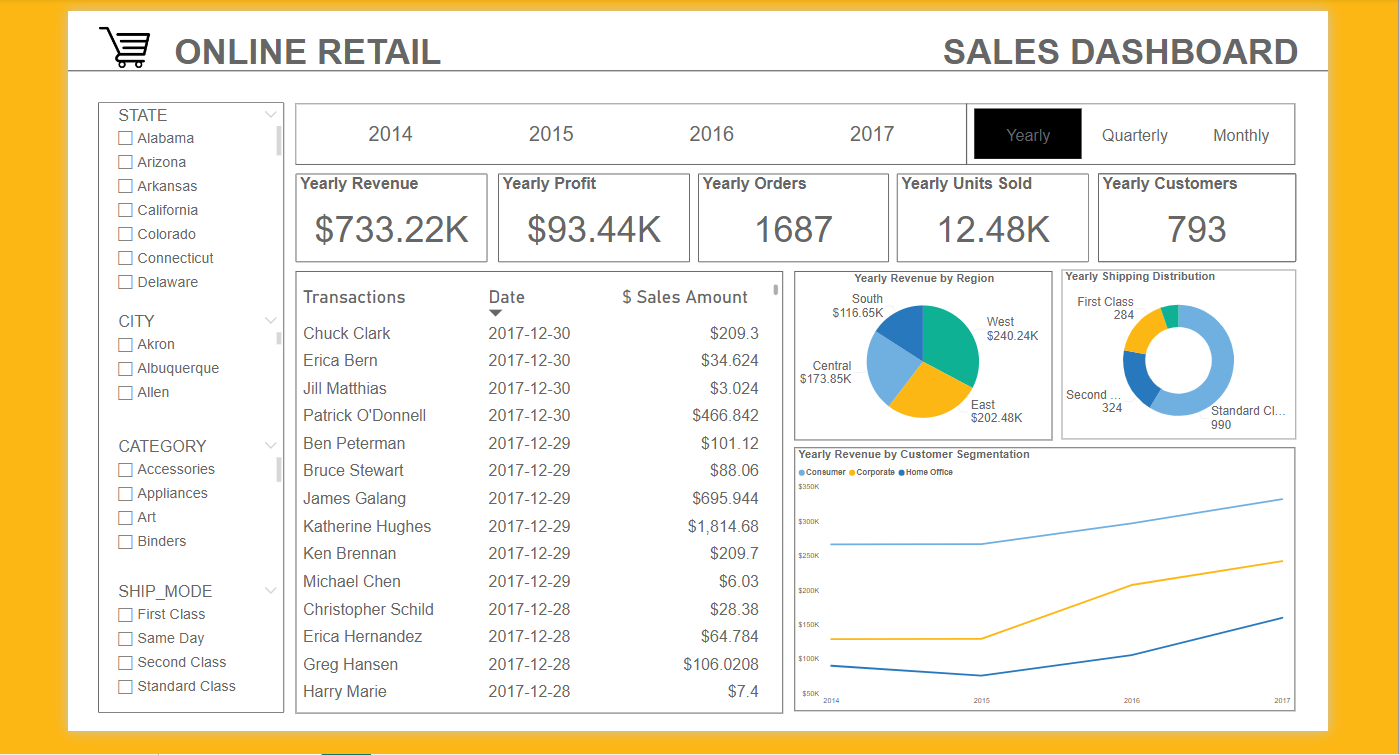

This screenshot's page, from the dashboard's own definition file:
{"tool":"powerbi","page":{"name":"Sales Dashboard","canvas":[2100,1200],"ordinal":0},"visuals":[{"type":"textbox","title":"Sales Dashboard","box":[1432.5,30,642.5,92.5],"z":0},{"type":"textbox","title":"Online Retail","box":[136.4,29.2,528.7,92.6],"z":125},{"type":"image","title":"Online Retail Logo","box":[17.1,0,163.2,121.8],"z":250},{"type":"shape","title":"Title Line","box":[0,77.5,2100,45],"z":500},{"type":"shape","title":"Title Frame","box":[0,0,2100,152.5],"z":750},{"type":"tableEx","title":"Transactions","fields":{"Values":["Dim_Customer.Customer_name","Dim_Calendar.Date","Calculation group.Total Sales"]},"box":[380,432.5,812.5,737.5],"z":875},{"type":"shape","title":"Filter Frame","box":[50,152.5,310,1017.5],"z":7250},{"type":"slicer","title":"ShipMode Slicer","fields":{"Values":["Dim_Shipping.SHIP_MODE"]},"box":[70.6,947.7,289.9,219.3],"z":7500},{"type":"slicer","title":"Category Slicer","fields":{"Values":["Dim_Category.CATEGORY"]},"box":[70.6,706.5,289.9,209.5],"z":8000},{"type":"slicer","title":"City Slicer","fields":{"Values":["Dim_CustomerCity.CITY"]},"box":[70.6,497,289.9,163.2],"z":9000},{"type":"slicer","title":"State Slicer","fields":{"Values":["Dim_CustomerState.STATE"]},"box":[70.6,153.5,289.9,326.5],"z":10000},{"type":"shape","title":"Button Frame","box":[379.2,154.2,1666.7,102.1],"z":10250},{"type":"shape","title":"Line","box":[1486.1,153.5,24.4,102.3],"z":10375},{"type":"slicer","title":"Year Slicer","fields":{"Values":["Dim_Calendar.Year"]},"box":[380,153.5,1118.2,102.3],"z":10437},{"type":"actionButton","title":"Monthly Button","box":[1867.5,157.5,177.5,97.5],"z":11000},{"type":"actionButton","title":"Quarterly Button","box":[1690,157.5,177.5,97.5],"z":12000},{"type":"shape","title":"Yearly Chosen","box":[1510.9,163.3,178.9,84.4],"z":12500},{"type":"actionButton","title":"Yearly Button","box":[1510,157.5,180,97.5],"z":13000},{"type":"card","title":"Monthly Customers","fields":{"Values":["Calculation group.MTD Average Sales per Order"]},"box":[1717.5,270,330,147.5],"z":20500},{"type":"card","title":"Quarterly Customers","fields":{"Values":["Calculation group.QTD Average Sales per Order"]},"box":[1716.9,270.4,329.6,147.9],"z":23000},{"type":"card","title":"Yearly Customers","fields":{"Values":["Calculation group.YTD Customers Reached"]},"box":[1717.5,270,330,147.5],"z":27500},{"type":"card","title":"Yearly Revenue","fields":{"Values":["Calculation group.YTD Revenue"]},"box":[380,270,320,148],"z":30000},{"type":"card","title":"Yearly Profit","fields":{"Values":["Calculation group.YTD Profit"]},"box":[716,270,320,148],"z":31000},{"type":"card","title":"Yearly Orders","fields":{"Values":["Calculation group.YTD Orders"]},"box":[1050,270,318,148],"z":32000},{"type":"card","title":"Yearly Units Sold","fields":{"Values":["Calculation group.YTD Quantity"]},"box":[1382,270,320,148],"z":33000},{"type":"pieChart","title":"Yearly Revenue by Region","fields":{"Category":["Dim_CustomerRegion.REGION"],"Y":["Calculation group.YTD Revenue"]},"box":[1210,432.5,430,282.5],"z":34000},{"type":"donutChart","title":"Yearly Shipping Distribution","fields":{"Y":["Calculation group.YTD Orders"],"Category":["Dim_Shipping.SHIP_MODE"]},"box":[1656,432,390,282],"z":35000},{"type":"lineChart","title":"Yearly Revenue by Customer Segmentation","fields":{"Series":["Dim_CustomerSegment.SEGMENT"],"Y":["Calculation group.Total Sales"],"Category":["Dim_Calendar.Date.Variation.Date Hierarchy.Year"]},"box":[1210,727.5,835,440],"z":36000}]}

Visuals, with their boxes in screenshot pixels (x1, y1, x2, y2):
"Sales Dashboard" textbox: (left=922, top=29, right=1306, bottom=84)
"Online Retail" textbox: (left=147, top=28, right=463, bottom=84)
"Online Retail Logo" image: (left=76, top=11, right=173, bottom=84)
"Title Line" shape: (left=66, top=57, right=1321, bottom=84)
"Title Frame" shape: (left=66, top=11, right=1321, bottom=102)
"Transactions" tableEx: (left=293, top=269, right=778, bottom=710)
"Filter Frame" shape: (left=95, top=102, right=281, bottom=710)
"ShipMode Slicer" slicer: (left=108, top=577, right=281, bottom=709)
"Category Slicer" slicer: (left=108, top=433, right=281, bottom=559)
"City Slicer" slicer: (left=108, top=308, right=281, bottom=406)
"State Slicer" slicer: (left=108, top=103, right=281, bottom=298)
"Button Frame" shape: (left=292, top=103, right=1289, bottom=164)
"Line" shape: (left=954, top=103, right=969, bottom=164)
"Year Slicer" slicer: (left=293, top=103, right=961, bottom=164)
"Monthly Button" actionButton: (left=1182, top=105, right=1288, bottom=163)
"Quarterly Button" actionButton: (left=1076, top=105, right=1182, bottom=163)
"Yearly Chosen" shape: (left=969, top=109, right=1076, bottom=159)
"Yearly Button" actionButton: (left=968, top=105, right=1076, bottom=163)
"Monthly Customers" card: (left=1092, top=172, right=1290, bottom=261)
"Quarterly Customers" card: (left=1092, top=173, right=1289, bottom=261)
"Yearly Customers" card: (left=1092, top=172, right=1290, bottom=261)
"Yearly Revenue" card: (left=293, top=172, right=484, bottom=261)
"Yearly Profit" card: (left=494, top=172, right=685, bottom=261)
"Yearly Orders" card: (left=693, top=172, right=883, bottom=261)
"Yearly Units Sold" card: (left=892, top=172, right=1083, bottom=261)
"Yearly Revenue by Region" pieChart: (left=789, top=269, right=1046, bottom=438)
"Yearly Shipping Distribution" donutChart: (left=1056, top=269, right=1289, bottom=438)
"Yearly Revenue by Customer Segmentation" lineChart: (left=789, top=446, right=1288, bottom=709)
